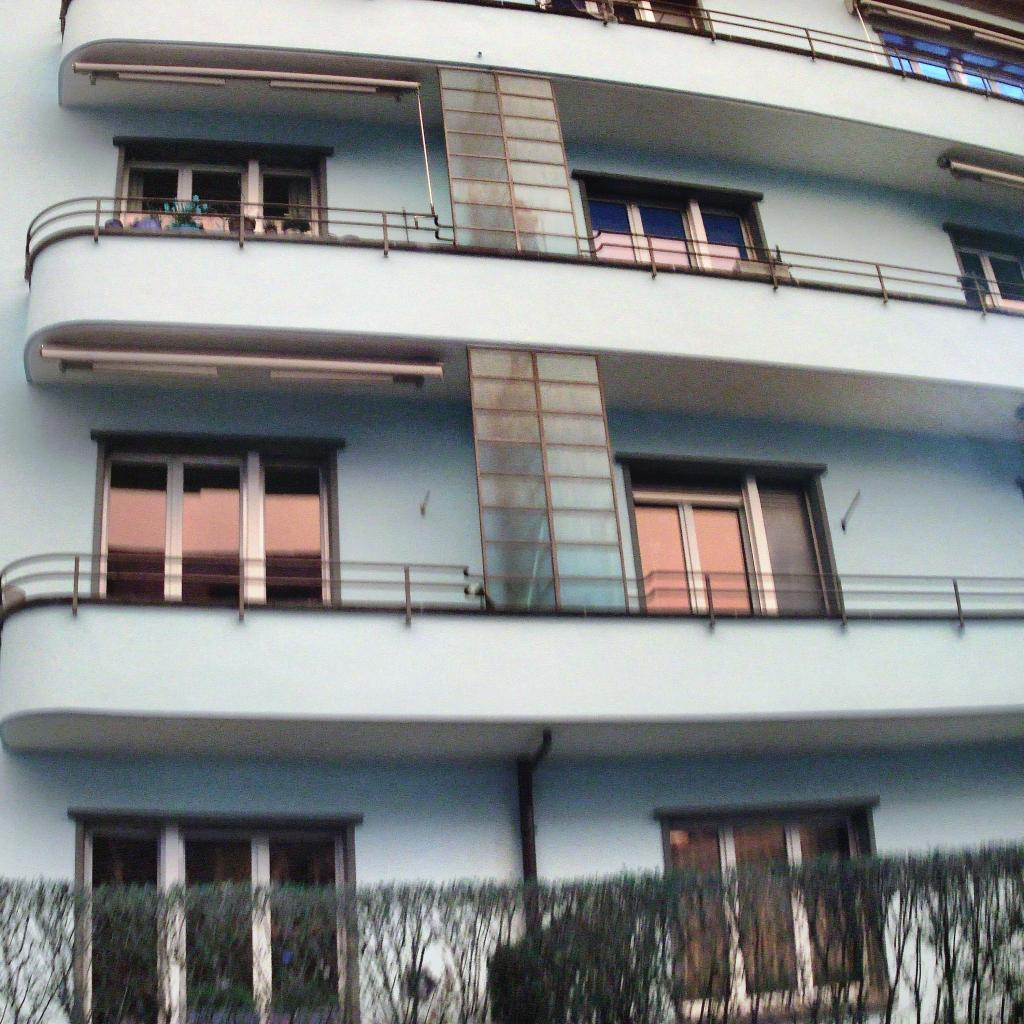balcony-fence: (23, 194, 1024, 321), (0, 550, 1024, 633), (454, 0, 1024, 108)
vegetation: (0, 837, 1024, 1024)
window: (84, 819, 351, 1024), (665, 812, 887, 1024), (468, 343, 632, 618), (99, 449, 329, 607), (628, 468, 838, 614), (435, 64, 582, 262), (120, 149, 324, 239), (585, 183, 765, 274), (883, 31, 1024, 100), (953, 235, 1023, 309), (603, 0, 701, 31)
